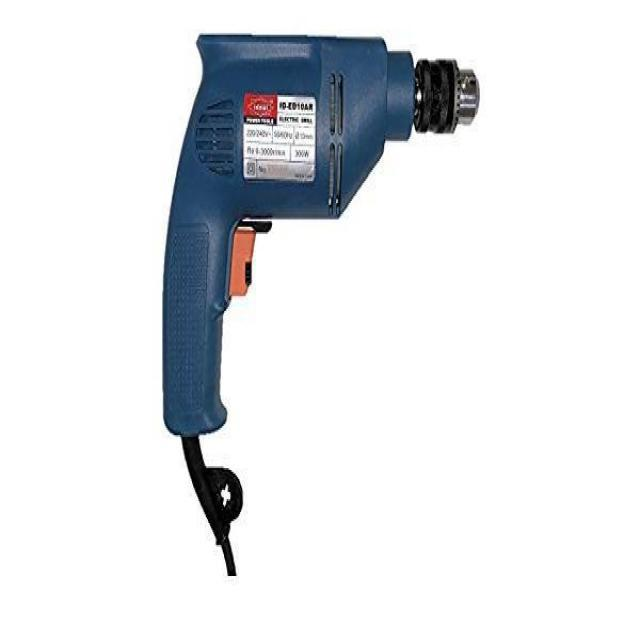drill: (162, 34, 480, 546)
